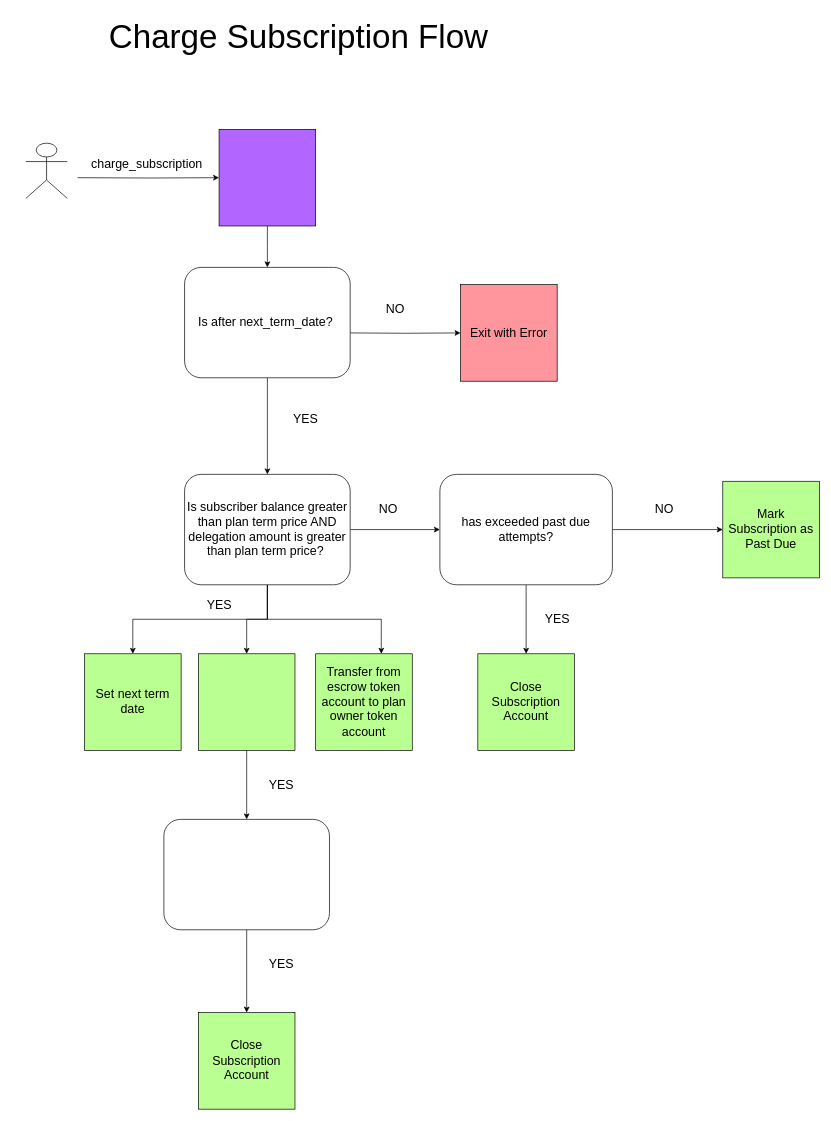
Some shapes in this 831 by 1121 pixel diagram are drawn without their labels. Each missing label, with the centre of its shape:
"Anonymous Signer" belongs at [46,170].
"Is subscription pending cancelleation?" belongs at [246,874].
"Solana Program" belongs at [267,177].
"Transfer from subscriber token account to escrow token account." belongs at [246,701].
